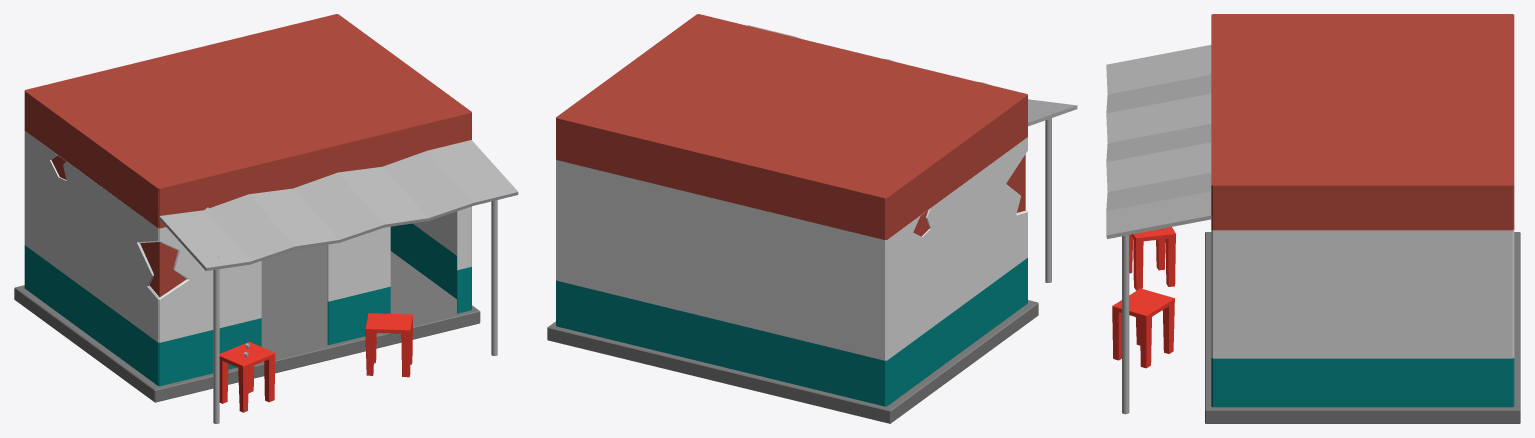
File: BOTECO.fbx
The picture shows the model from 3 angles, left to right: view 1: azimuth 30°, elevation 25°; view 2: azimuth 150°, elevation 25°; view 3: azimuth 270°, elevation 25°; orthographic projection. The views are drawn at different scales.
Visible parts, largest first — view 1: Upper.001, Wall.001, Plane.003, Floor, Roof.001, Wall.002, Plane.001, Plane.002, Cube.004, Cylinder.002, Cylinder.003; view 2: Wall.001, Upper.001, Wall.002, Roof.001, Floor, Cylinder.003, Plane.003, Cube.004; view 3: Upper.001, Wall.001, Plane.003, Wall.002, Roof.001, Floor, Plane.002, Plane.001, Cylinder.002.
Boxes of the visible parts, x1,y1,x2,y2 form: Upper.001: (26,14,470,188); Wall.001: (24,131,471,342); Plane.003: (159,140,518,270); Floor: (14,244,480,402); Roof.001: (24,14,471,228); Wall.002: (24,223,471,386); Plane.001: (219,341,275,412); Plane.002: (365,313,412,377); Cube.004: (140,242,186,297); Cylinder.002: (491,200,497,355); Cylinder.003: (213,256,219,423); Wall.001: (556,137,1027,360); Upper.001: (557,14,1026,197); Wall.002: (556,258,1027,406); Roof.001: (556,14,1027,239); Floor: (547,300,1038,423); Cylinder.003: (1045,105,1051,282); Plane.003: (747,25,1077,126); Cube.004: (1006,154,1025,212); Upper.001: (1212,14,1512,185); Wall.001: (1211,229,1514,358); Plane.003: (1106,45,1211,238); Wall.002: (1211,358,1514,407); Roof.001: (1211,14,1514,230); Floor: (1205,232,1520,423); Plane.002: (1112,288,1174,368); Plane.001: (1129,227,1175,290); Cylinder.002: (1122,235,1129,414).
Size of the model in its own units: 267 by 165 by 263.
